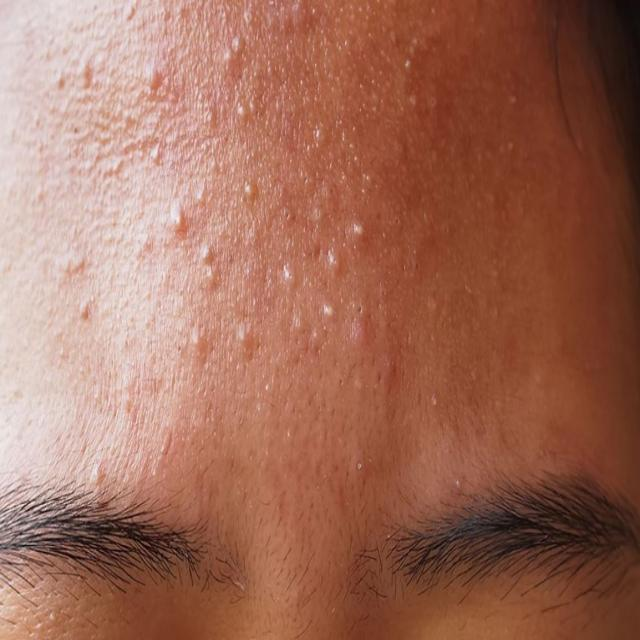fungal: (39, 6, 444, 398)
